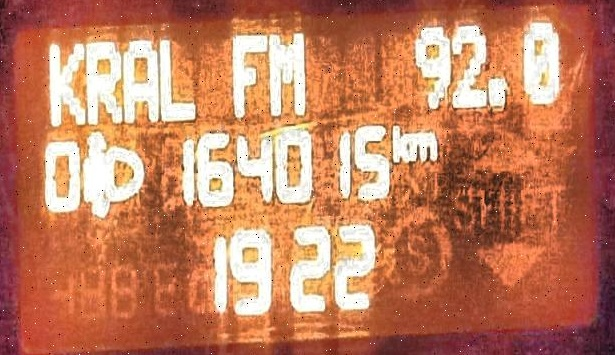-: (486, 74, 511, 111)
0: (521, 19, 562, 106), (273, 127, 311, 205), (43, 137, 80, 213)
1: (180, 136, 196, 206), (212, 235, 226, 315), (336, 127, 351, 200)
2: (289, 223, 330, 313), (334, 223, 374, 308), (449, 22, 487, 108)
4: (235, 133, 272, 205)
5: (355, 124, 388, 199)
6: (197, 130, 232, 208)
9: (228, 226, 273, 317), (413, 24, 450, 107)
X: (158, 33, 197, 122), (45, 39, 83, 130), (270, 30, 310, 113), (231, 31, 268, 118), (122, 34, 158, 122), (86, 36, 121, 124), (410, 129, 437, 163), (390, 122, 409, 165)
